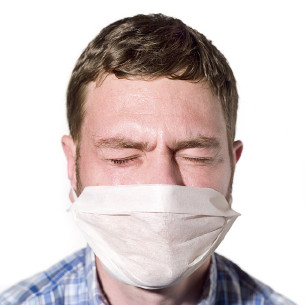face_mask: (76, 70, 230, 287)
